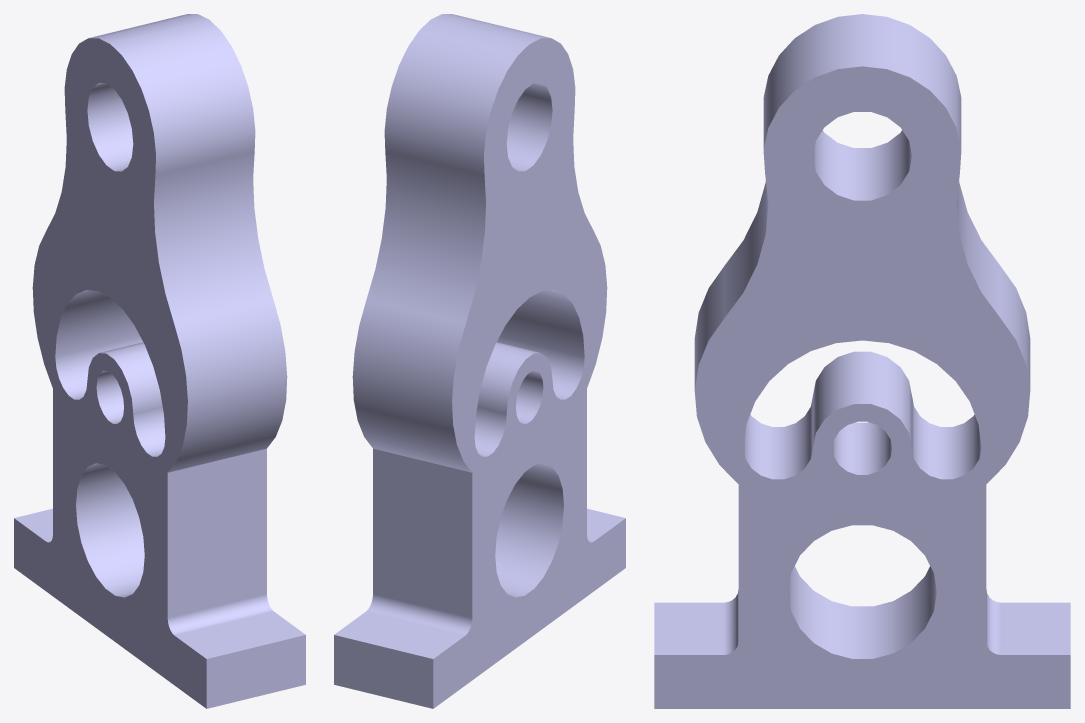
Rendered from 25 upright 01.fbx.
3 renders of one model, left to right at view 1: azimuth 30°, elevation 25°; view 2: azimuth 150°, elevation 25°; view 3: azimuth 270°, elevation 25°, orthographic. The views are drawn at different scales.
Visible parts, largest first — view 1: PartBody; view 2: PartBody; view 3: PartBody.
Part boxes in pixels (box(x1,y1,x2,y2)): PartBody: box(14, 14, 305, 708); PartBody: box(334, 14, 625, 708); PartBody: box(654, 14, 1070, 708).
Bounding box in the file's own units: 1.97 × 11.26 × 6.61.
